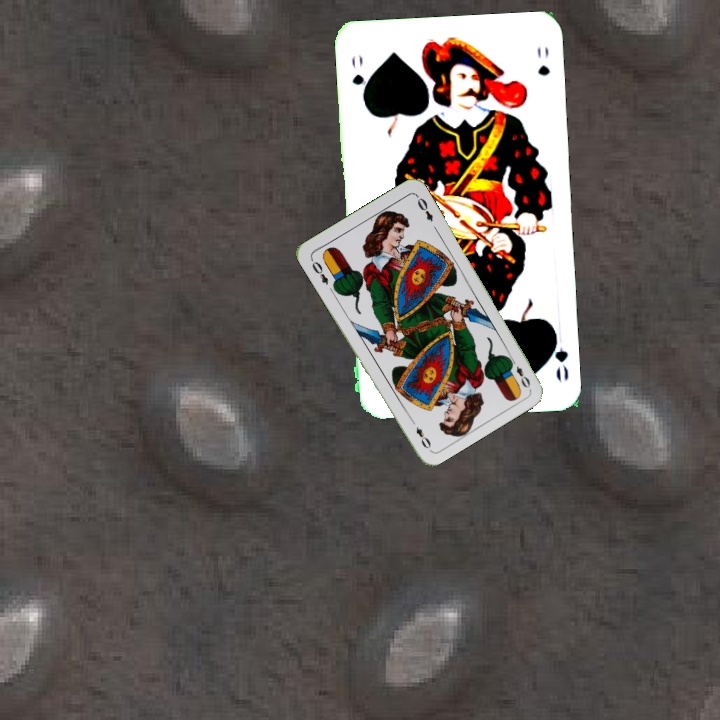EO: (506, 354, 533, 391), (307, 255, 331, 287)
GO: (544, 326, 571, 384), (347, 50, 371, 104)
